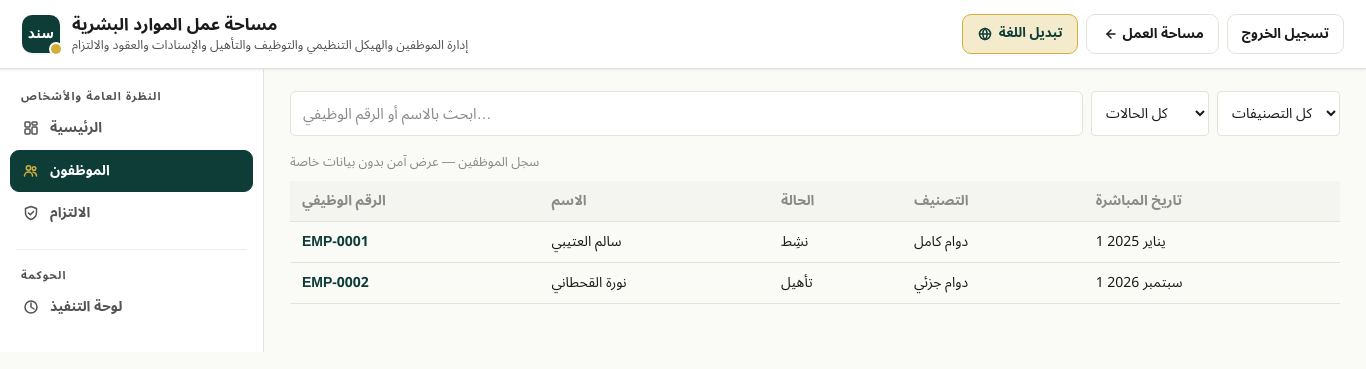
Test case: Employee Directory › filters rows by the search box (name or employee number)
Expected: the text "سالم العتيبي" is shown, left=539, top=221, right=769, bottom=262
Step 1. Type "نورة" into the search field named "بحث في السجل" → [686, 114], box left=290, top=91, right=1083, bottom=136
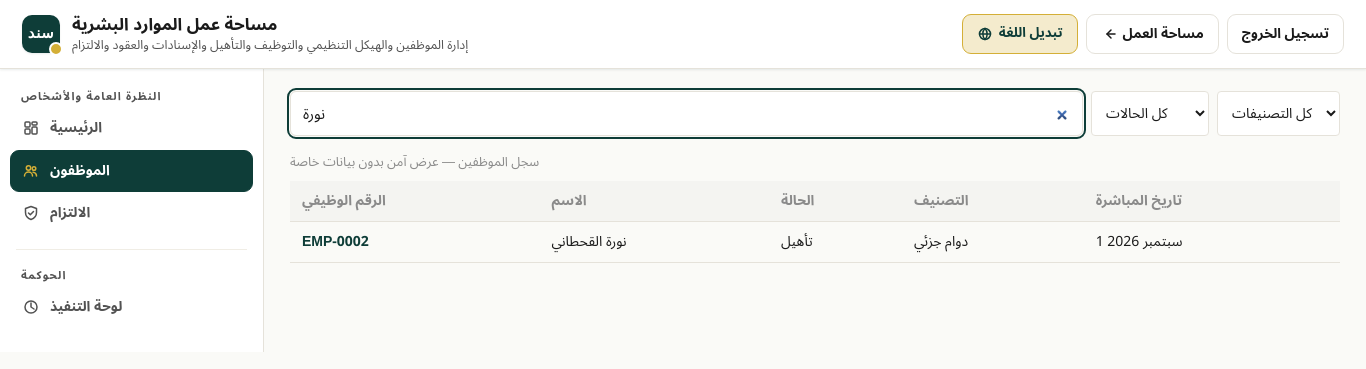
Expected: the text "نورة القحطاني" is shown, left=539, top=221, right=769, bottom=262
Expected: the text "سالم العتيبي" is gone
